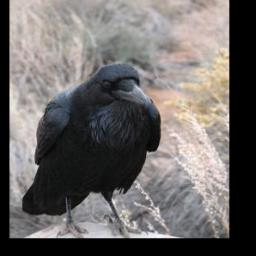Crow: (20, 61, 164, 237)
